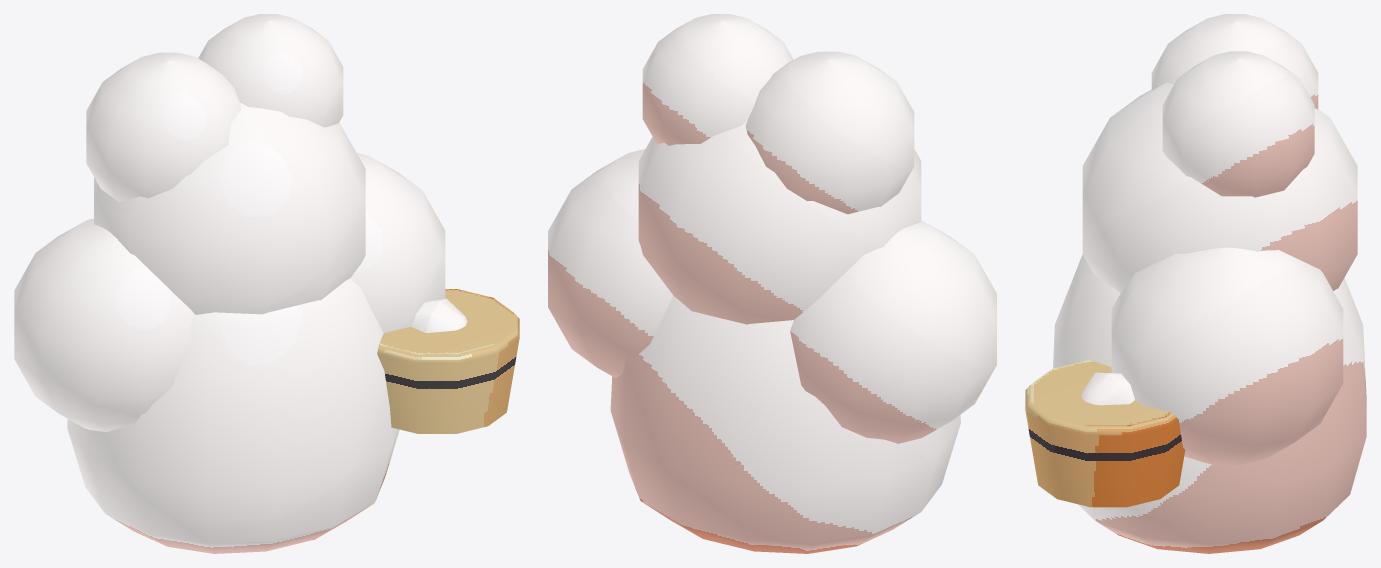
File: steam.glb
3 renders of one model, left to right at view 1: azimuth 30°, elevation 25°; view 2: azimuth 150°, elevation 25°; view 3: azimuth 270°, elevation 25°, orthographic. The views are drawn at different scales.
Visible parts, largest first — view 1: puff0, puff3, puff1, puff4, pail, puff2, puff5, armR; view 2: puff0, puff3, puff1, puff4, puff2, puff5; view 3: puff2, puff3, puff0, puff5, pail, puff4, armR.
Boxes of the visible parts, x1,y1,x2,y2 form: puff0: (67, 278, 399, 553); puff3: (94, 102, 365, 314); puff1: (14, 218, 194, 432); puff4: (86, 52, 240, 201); pail: (377, 289, 519, 433); puff2: (350, 153, 445, 332); puff5: (198, 14, 343, 127); armR: (411, 298, 467, 333); puff0: (610, 296, 960, 553); puff3: (638, 120, 921, 324); puff1: (790, 220, 996, 443); puff4: (745, 51, 914, 214); puff2: (548, 149, 673, 377); puff5: (642, 14, 793, 145); puff2: (1111, 247, 1343, 464); puff3: (1082, 82, 1357, 292); puff0: (1052, 254, 1366, 553); puff5: (1162, 51, 1314, 197); pail: (1025, 360, 1185, 507); puff4: (1151, 14, 1318, 109); armR: (1081, 372, 1134, 405).
Size of the model in its own units: 26.55 by 27.8 by 18.4.
Materials: 1 (1 with a texture image).
